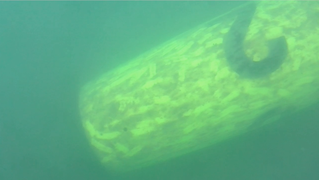2: (205, 1, 288, 80), (246, 103, 296, 133)
pipe: (78, 1, 319, 175)
